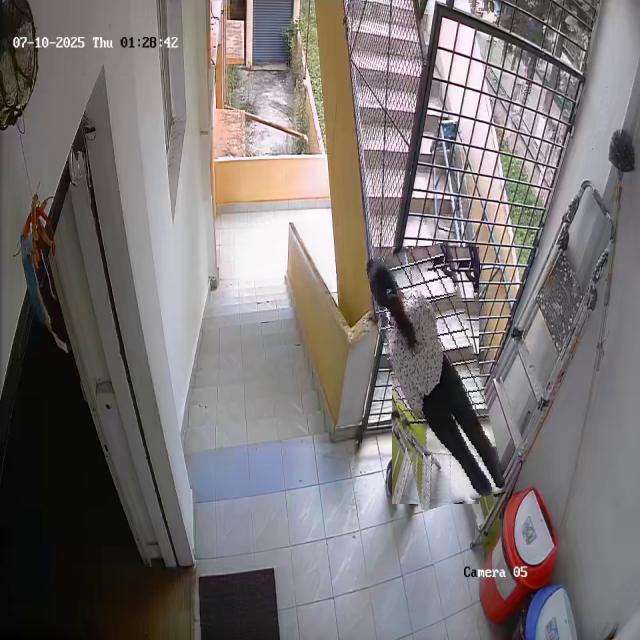person: (378, 244, 493, 507)
